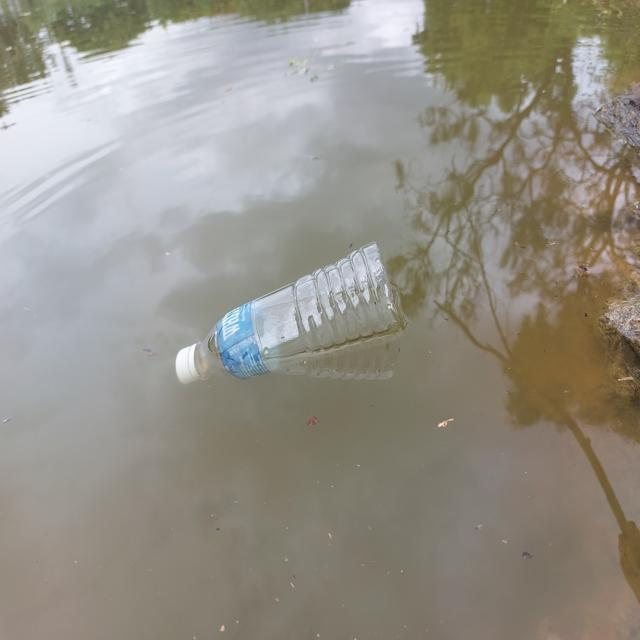waterbottle: (173, 238, 403, 410)
